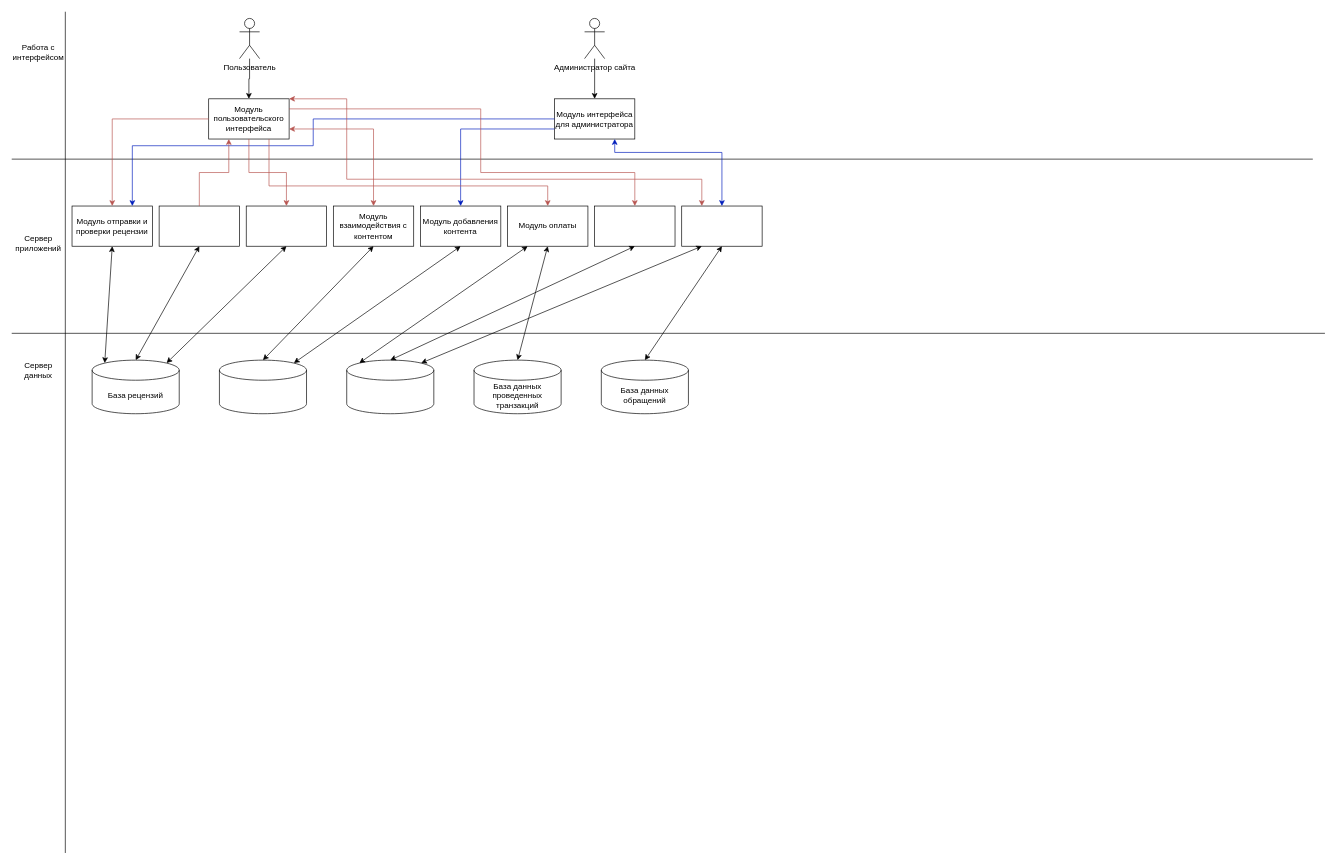
This 1337x866 diagram has some shape labels left out. Each missing label, with the centre of its shape:
"База данных контента" goes at pixel 263 386.
"База данных пользователей" goes at pixel 390 386.
"Модуль авторизации" goes at pixel 634 225.
"Модуль взаимодействия с рецензией" goes at pixel 286 225.
"Модуль прочтения рецензии" goes at pixel 199 225.
"Модуль технической поддержки" goes at pixel 721 225.
